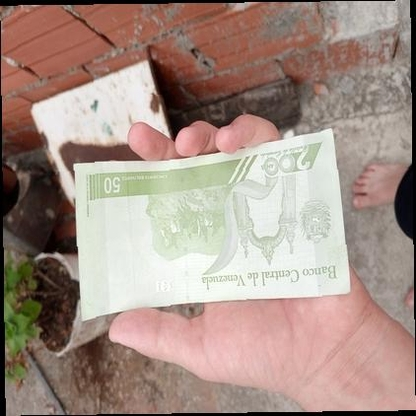fifty-back-vef: (73, 128, 350, 322)
